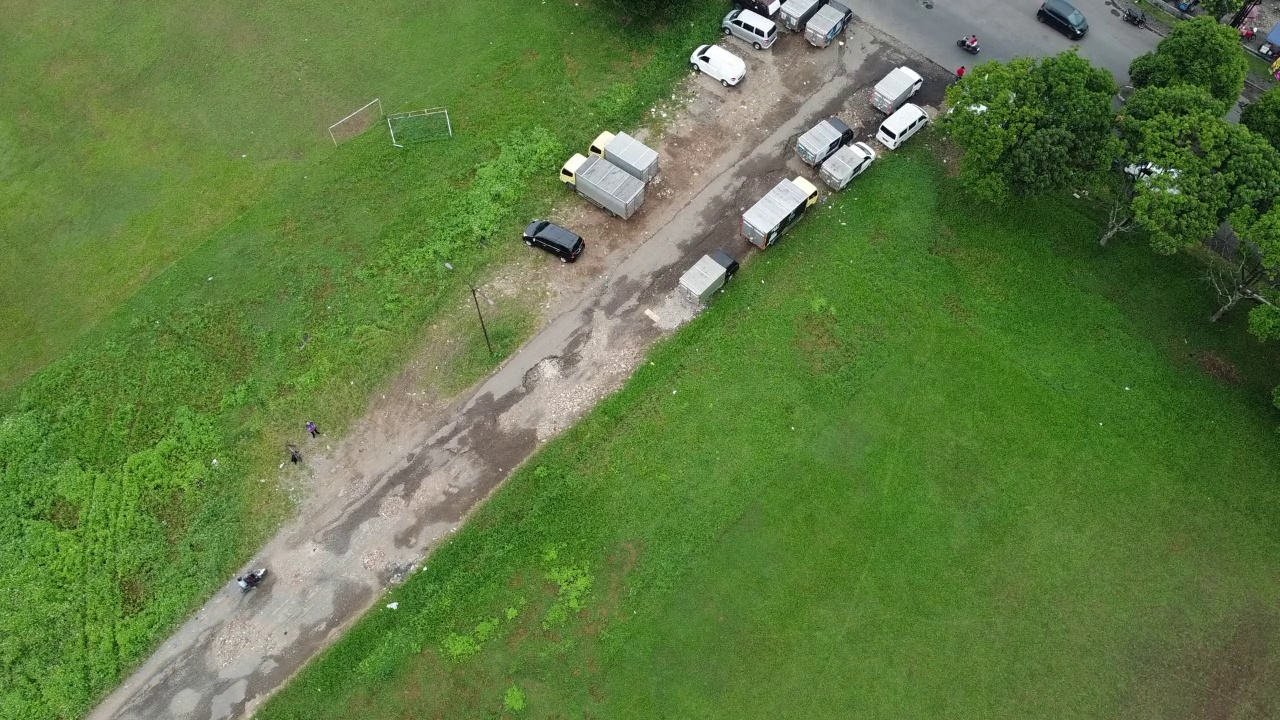mobil: (520, 218, 587, 267), (687, 40, 751, 87), (719, 5, 780, 51), (1033, 1, 1094, 46), (877, 100, 930, 148)
